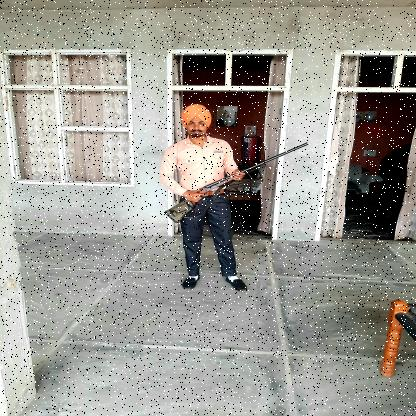rifle: (163, 140, 311, 226)
